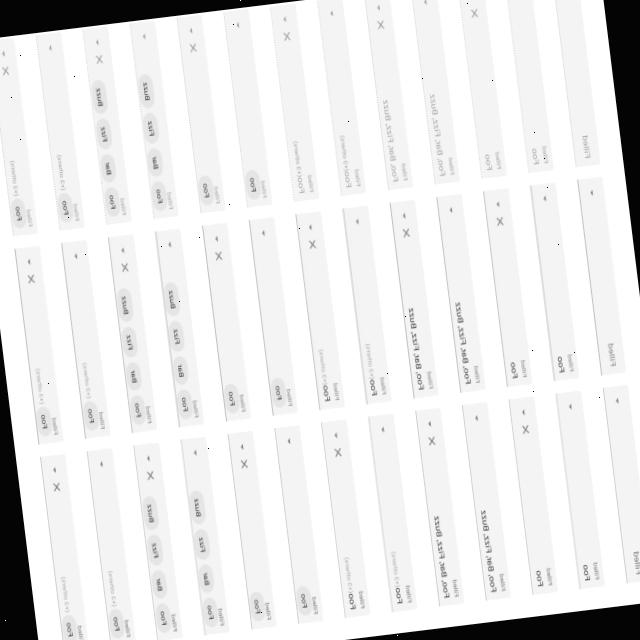VCombobox: (318, 416, 371, 620), (245, 215, 298, 417), (173, 13, 226, 215), (574, 174, 626, 377), (178, 435, 230, 638), (224, 428, 276, 631), (552, 388, 604, 590), (271, 423, 323, 625), (220, 7, 272, 209), (506, 394, 558, 596), (267, 1, 319, 203), (459, 400, 511, 602), (528, 180, 580, 382), (365, 412, 417, 614), (412, 406, 464, 608), (433, 192, 485, 394), (293, 209, 345, 411), (340, 204, 392, 406), (152, 226, 204, 428), (105, 232, 157, 434), (386, 198, 438, 400), (80, 25, 132, 226), (12, 244, 64, 445), (131, 440, 183, 640), (481, 186, 532, 388), (59, 238, 110, 440), (314, 0, 366, 197), (200, 220, 250, 422), (34, 30, 84, 232), (83, 446, 135, 640), (128, 19, 178, 220), (361, 0, 413, 192), (37, 451, 89, 640), (407, 0, 459, 186), (455, 0, 506, 180), (502, 0, 554, 175), (548, 0, 600, 169), (599, 382, 640, 584), (0, 35, 38, 237)
